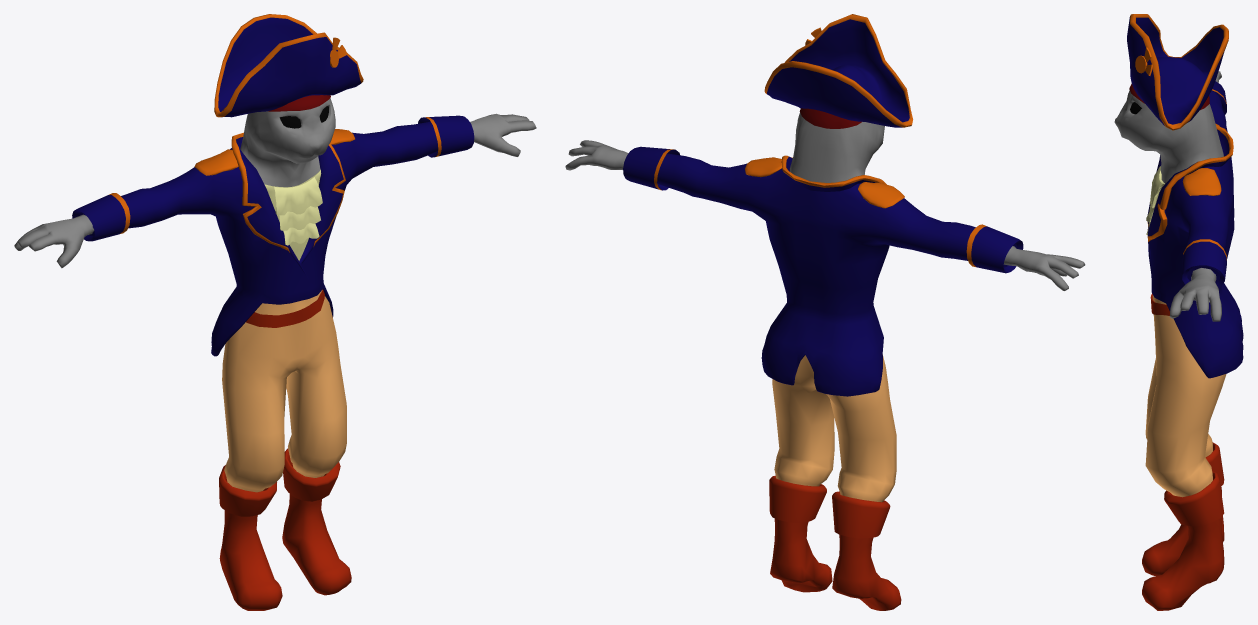
Rendered from CaptainClaw_UV_6.11_Version.fbx.
3 renders of one model, left to right at view 1: azimuth 30°, elevation 25°; view 2: azimuth 150°, elevation 25°; view 3: azimuth 270°, elevation 25°, orthographic.
Visible parts, largest first — view 1: body; view 2: body; view 3: body.
Boxes of the visible parts, left/top/right/bottom form: body: left=14, top=14, right=536, bottom=610; body: left=565, top=14, right=1085, bottom=610; body: left=1114, top=14, right=1243, bottom=610.
Bounding box in the file's own units: 56.77 × 61.22 × 12.54.
